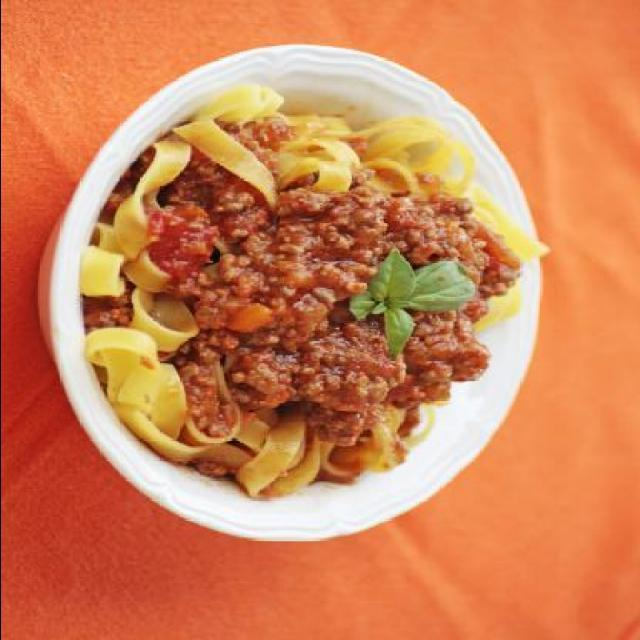Pasta al ragu: (80, 114, 536, 506)
